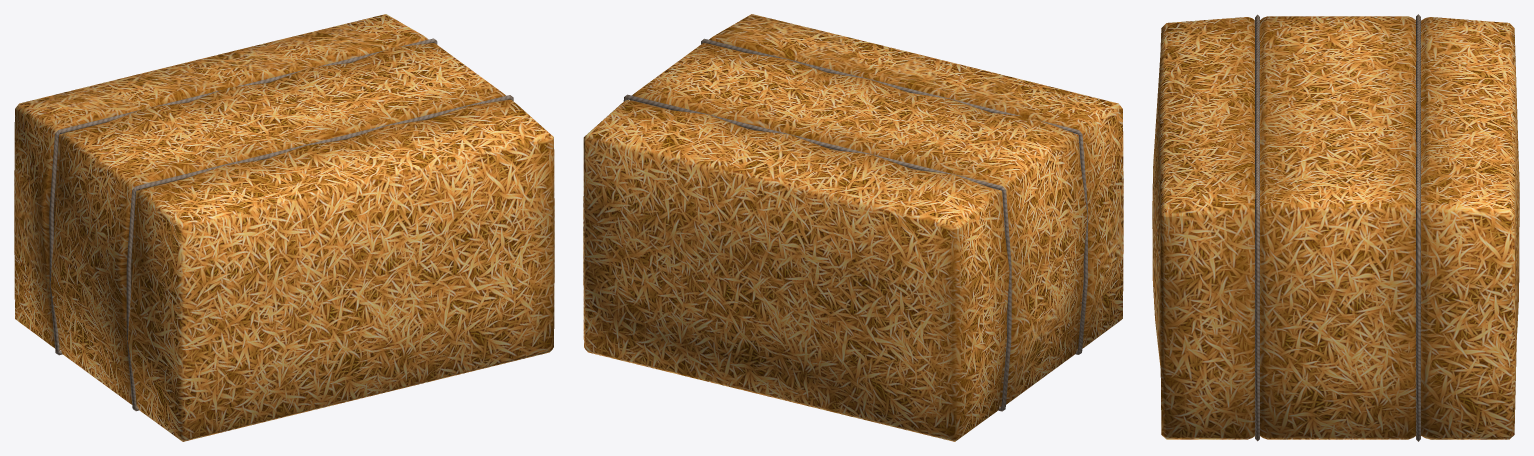
Rendered from HayStack02.FBX.
3 views of the same model, side by side, from view 1: azimuth 30°, elevation 25°; view 2: azimuth 150°, elevation 25°; view 3: azimuth 270°, elevation 25° (orthographic). The views are drawn at different scales.
Visible parts, largest first — view 1: HayStack02; view 2: HayStack02; view 3: HayStack02.
Boxes of the visible parts, x1,y1,x2,y2 form: HayStack02: [14, 14, 554, 441]; HayStack02: [583, 14, 1123, 441]; HayStack02: [1152, 14, 1519, 441].
Size of what is drawn, in the model's own units: 1.24 by 0.6879 by 0.9464.
